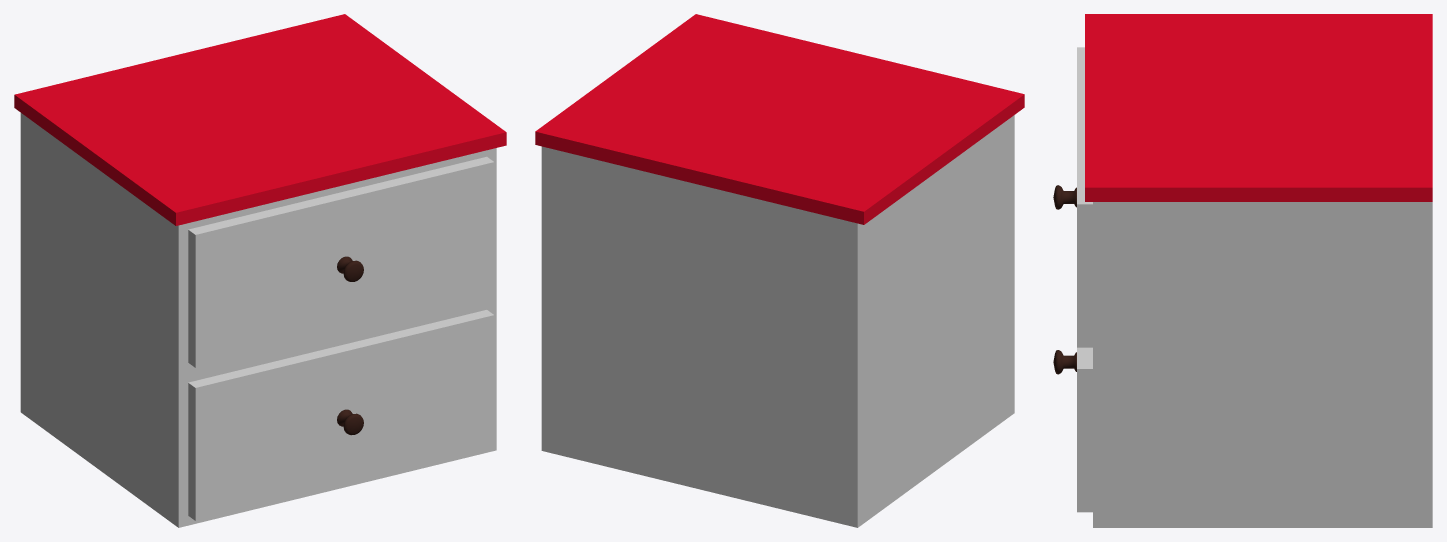
Rendered from BedStand.fbx.
The picture shows the model from 3 angles, left to right: view 1: azimuth 30°, elevation 25°; view 2: azimuth 150°, elevation 25°; view 3: azimuth 270°, elevation 25°; orthographic projection. The views are drawn at different scales.
Visible parts, largest first — view 1: Cube; view 2: Cube; view 3: Cube.
Boxes of the visible parts, bbox=[...] form: Cube: bbox=[14, 14, 506, 527]; Cube: bbox=[535, 14, 1024, 527]; Cube: bbox=[1053, 14, 1432, 527].
Bounding box in the file's own units: 52 × 48 × 48.
